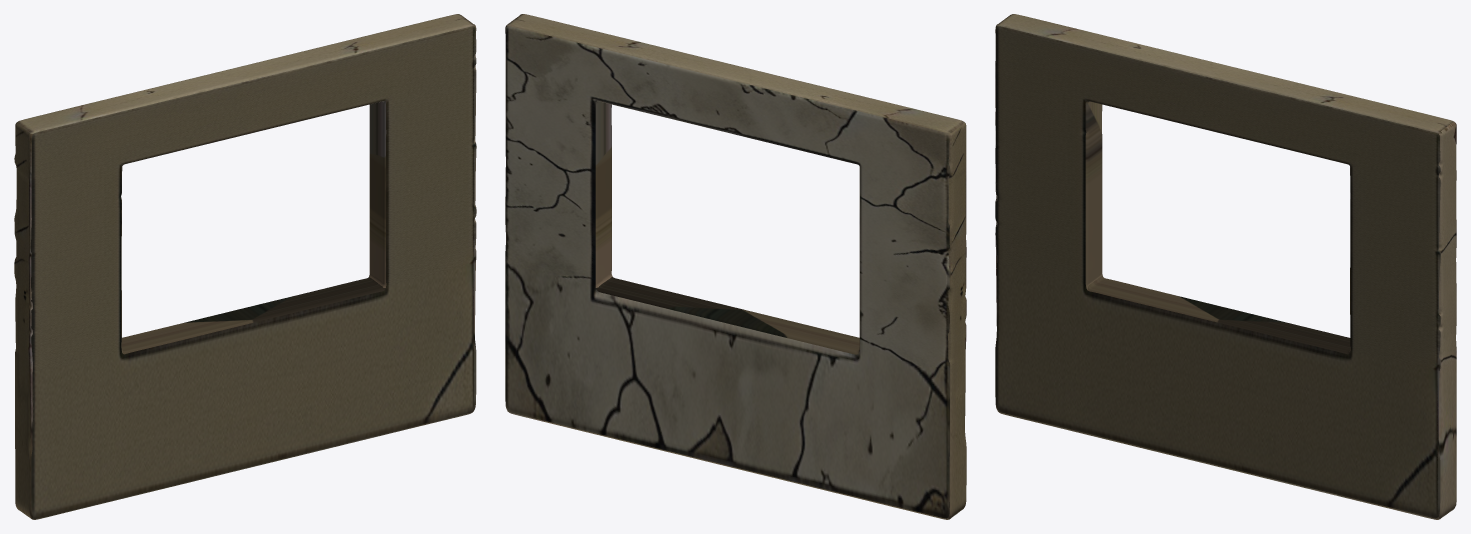
File: Wall-Plaster-3.glb
3 views of the same model, side by side, from view 1: azimuth 30°, elevation 25°; view 2: azimuth 150°, elevation 25°; view 3: azimuth 330°, elevation 25° (orthographic).
Visible parts, largest first — view 1: tmp49cvox9t.ply; view 2: tmp49cvox9t.ply; view 3: tmp49cvox9t.ply.
Part boxes in pixels (x1=…): tmp49cvox9t.ply: x1=14, y1=14, x2=476, y2=519; tmp49cvox9t.ply: x1=505, y1=14, x2=966, y2=519; tmp49cvox9t.ply: x1=995, y1=14, x2=1456, y2=519.
Bounding box in the file's own units: 3 × 2.5 × 0.2.
Materials: 1 (1 with a texture image).
